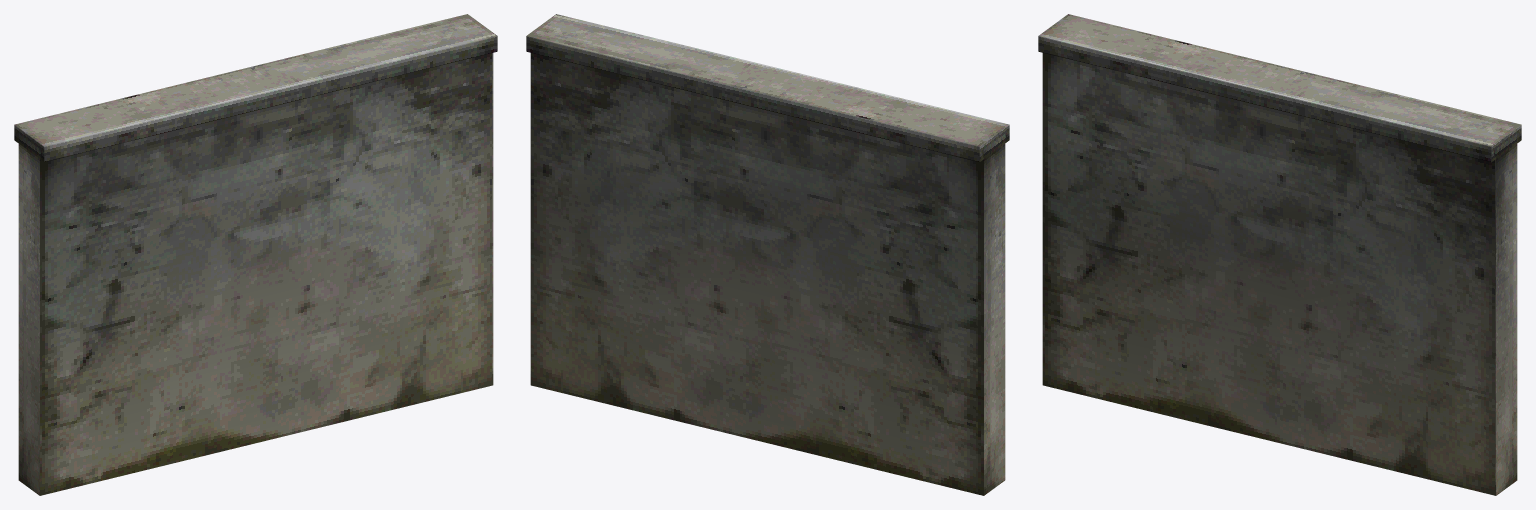
File: wall.glb
The picture shows the model from 3 angles, left to right: view 1: azimuth 30°, elevation 25°; view 2: azimuth 150°, elevation 25°; view 3: azimuth 330°, elevation 25°; orthographic projection.
Bounding box in the file's own units: 4.03 × 2.99 × 0.4622.
1 material, 1 textured.
